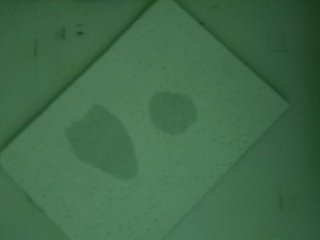Water_detected: (78, 125, 135, 167), (151, 96, 184, 122)
